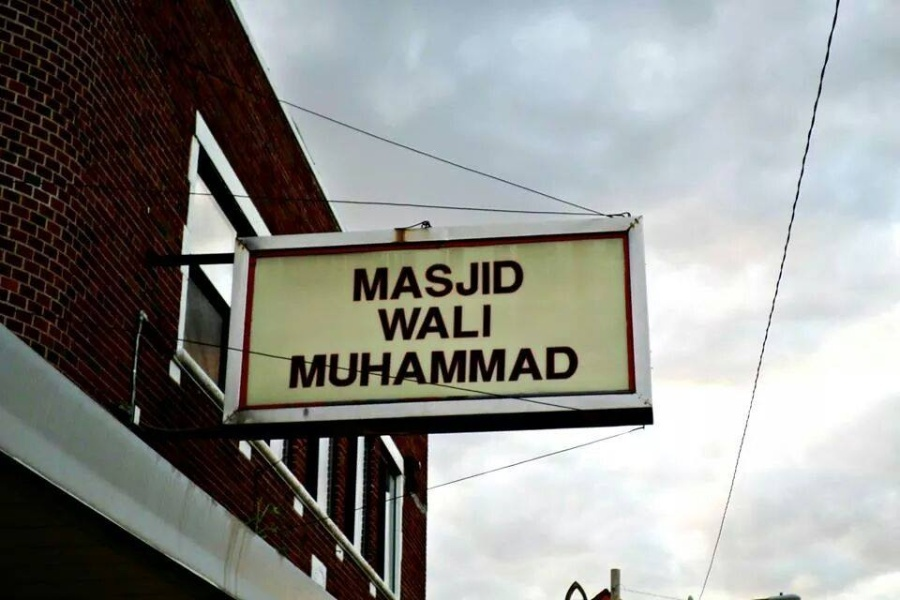text: (289, 344, 304, 391), (305, 344, 320, 391), (321, 344, 336, 391), (337, 344, 352, 391), (353, 344, 368, 391), (369, 344, 384, 391), (385, 344, 400, 391), (401, 344, 416, 391), (417, 344, 432, 391), (433, 344, 448, 391), (449, 344, 464, 391), (465, 344, 480, 391), (481, 344, 496, 391), (497, 344, 512, 391), (513, 344, 528, 391), (529, 344, 544, 391), (545, 344, 560, 391), (561, 344, 576, 391), (353, 259, 368, 302), (369, 259, 384, 302), (385, 259, 400, 302), (401, 259, 416, 302), (417, 259, 432, 302), (433, 259, 448, 302), (449, 259, 464, 302), (465, 259, 480, 302), (481, 259, 496, 302), (497, 259, 512, 302), (385, 302, 400, 343), (401, 302, 416, 343), (417, 302, 432, 343), (433, 302, 448, 343), (449, 302, 464, 343), (465, 302, 480, 343), (481, 302, 494, 343), (513, 259, 525, 302), (374, 302, 384, 343), (577, 344, 581, 391), (349, 259, 352, 302), (287, 344, 288, 391)
